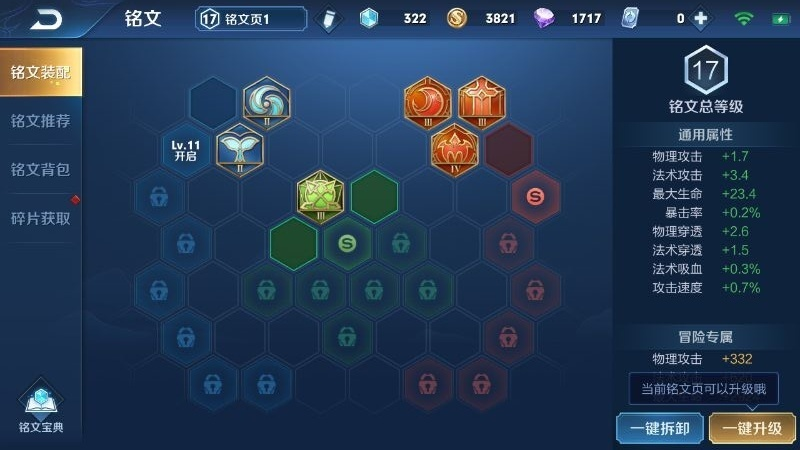return: (24, 4, 73, 36)
tag: (7, 105, 74, 138), (7, 153, 73, 186), (8, 202, 72, 236)
